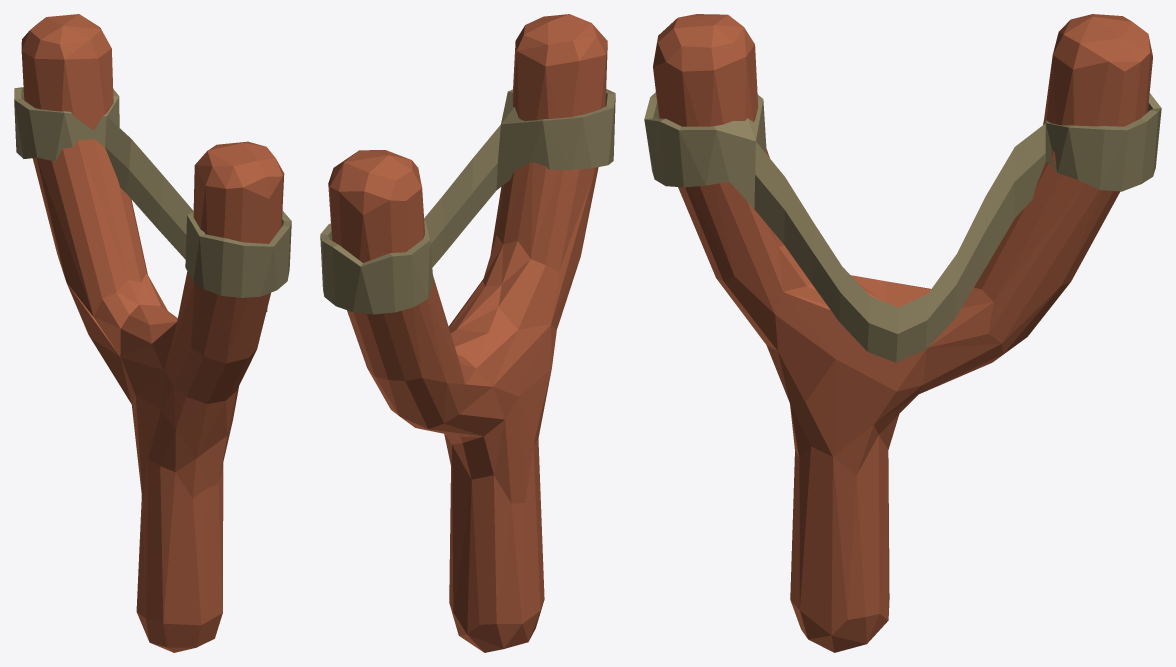
The model's file is Slingshot.fbx.
3 renders of one model, left to right at view 1: azimuth 30°, elevation 25°; view 2: azimuth 150°, elevation 25°; view 3: azimuth 270°, elevation 25°, orthographic. The views are drawn at different scales.
Parts seen in each view (by area): view 1: Cube.001; view 2: Cube.001; view 3: Cube.001.
Part boxes in pixels (left/top/right/bottom): Cube.001: left=14, top=14, right=291, bottom=652; Cube.001: left=320, top=14, right=615, bottom=652; Cube.001: left=644, top=14, right=1161, bottom=652.
Bounding box in the file's own units: 137 × 471 × 354.
